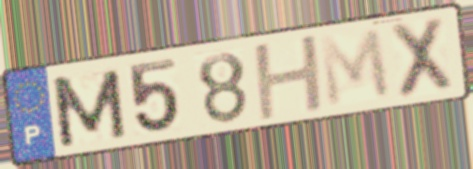5: (124, 58, 183, 136)
8: (193, 48, 251, 128)
H: (249, 31, 328, 124)
M: (47, 65, 131, 150), (316, 25, 395, 111)
X: (386, 13, 457, 102)
